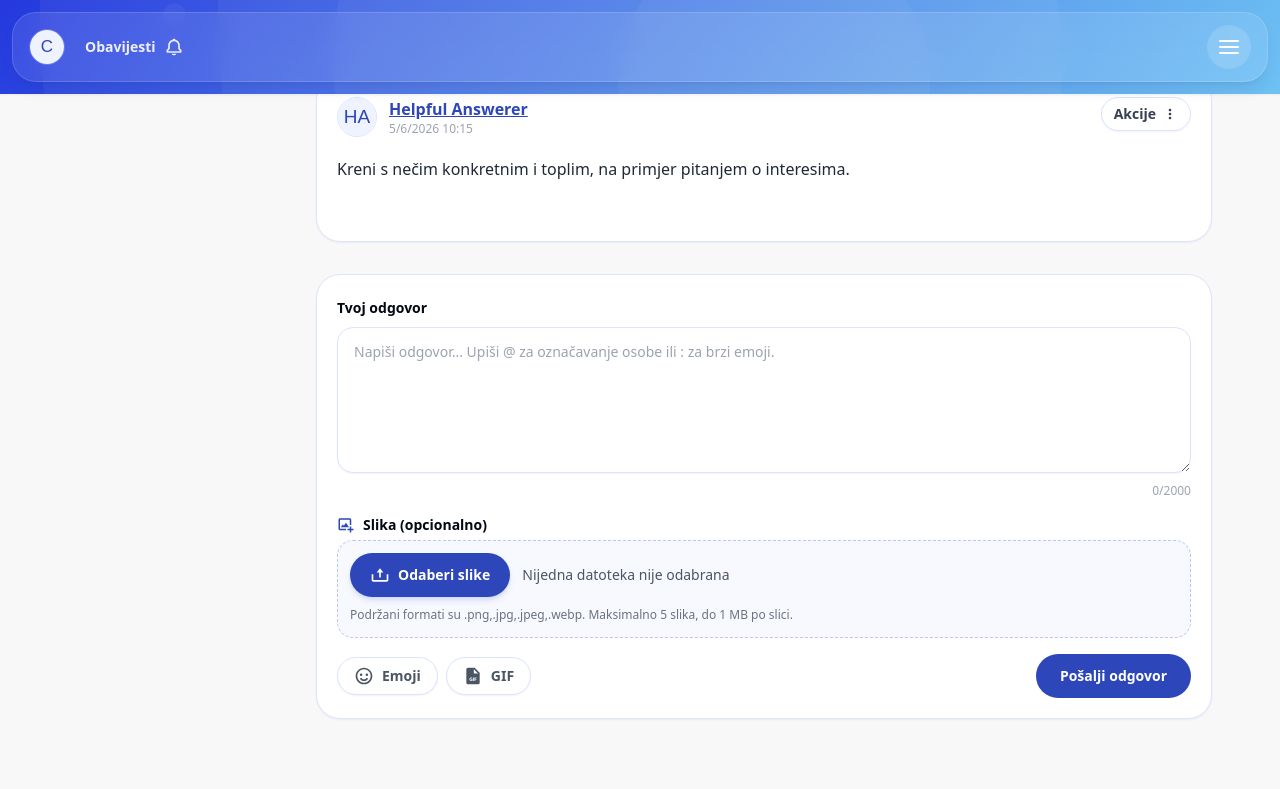
forum questions and answers › posts an answer to an existing question
The width and height of the screenshot is (1280, 789).
(page scrolled)
Expected: the form with test id "forum-answer-form" is shown, x1=316 y1=274 x2=1212 y2=719
Step 1. Type "Cypress odgovor s dovoljno konteksta za forum pitanje." into the text box with test id "forum-answer-body" → point(764, 400), box x1=337 y1=327 x2=1191 y2=473
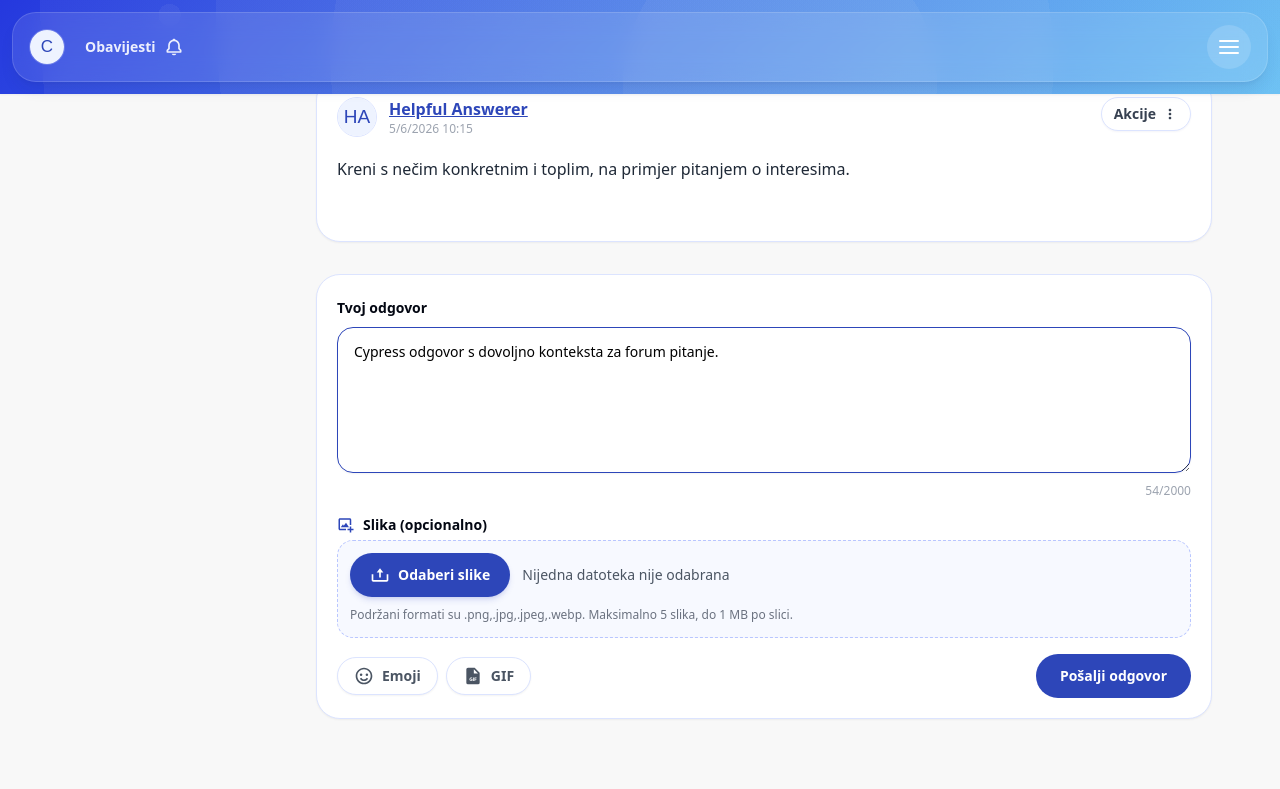
Step 2. Click the button with test id "forum-answer-submit" → point(1114, 676), box x1=1036 y1=654 x2=1191 y2=698
(page scrolled)
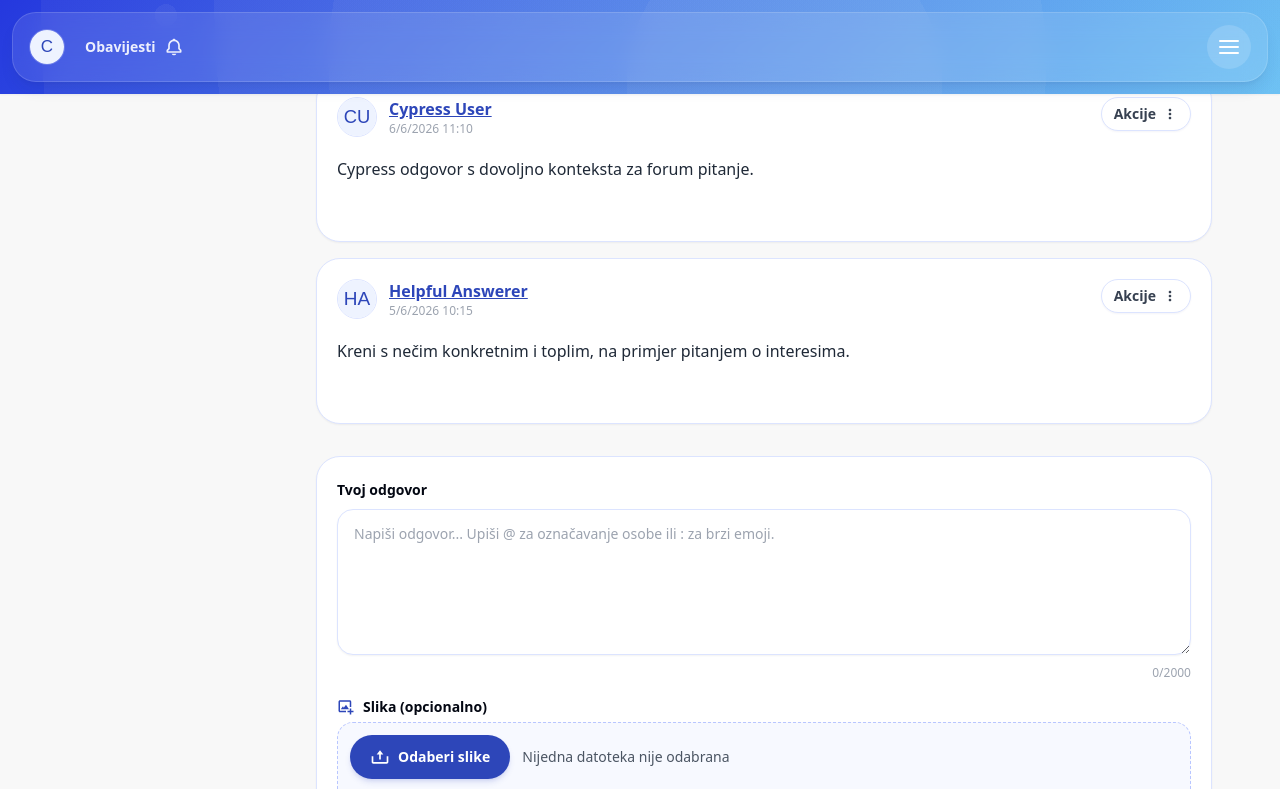
Now the text "Cypress odgovor s dovoljno konteksta za forum pitanje." is shown, box x1=337 y1=158 x2=754 y2=180
